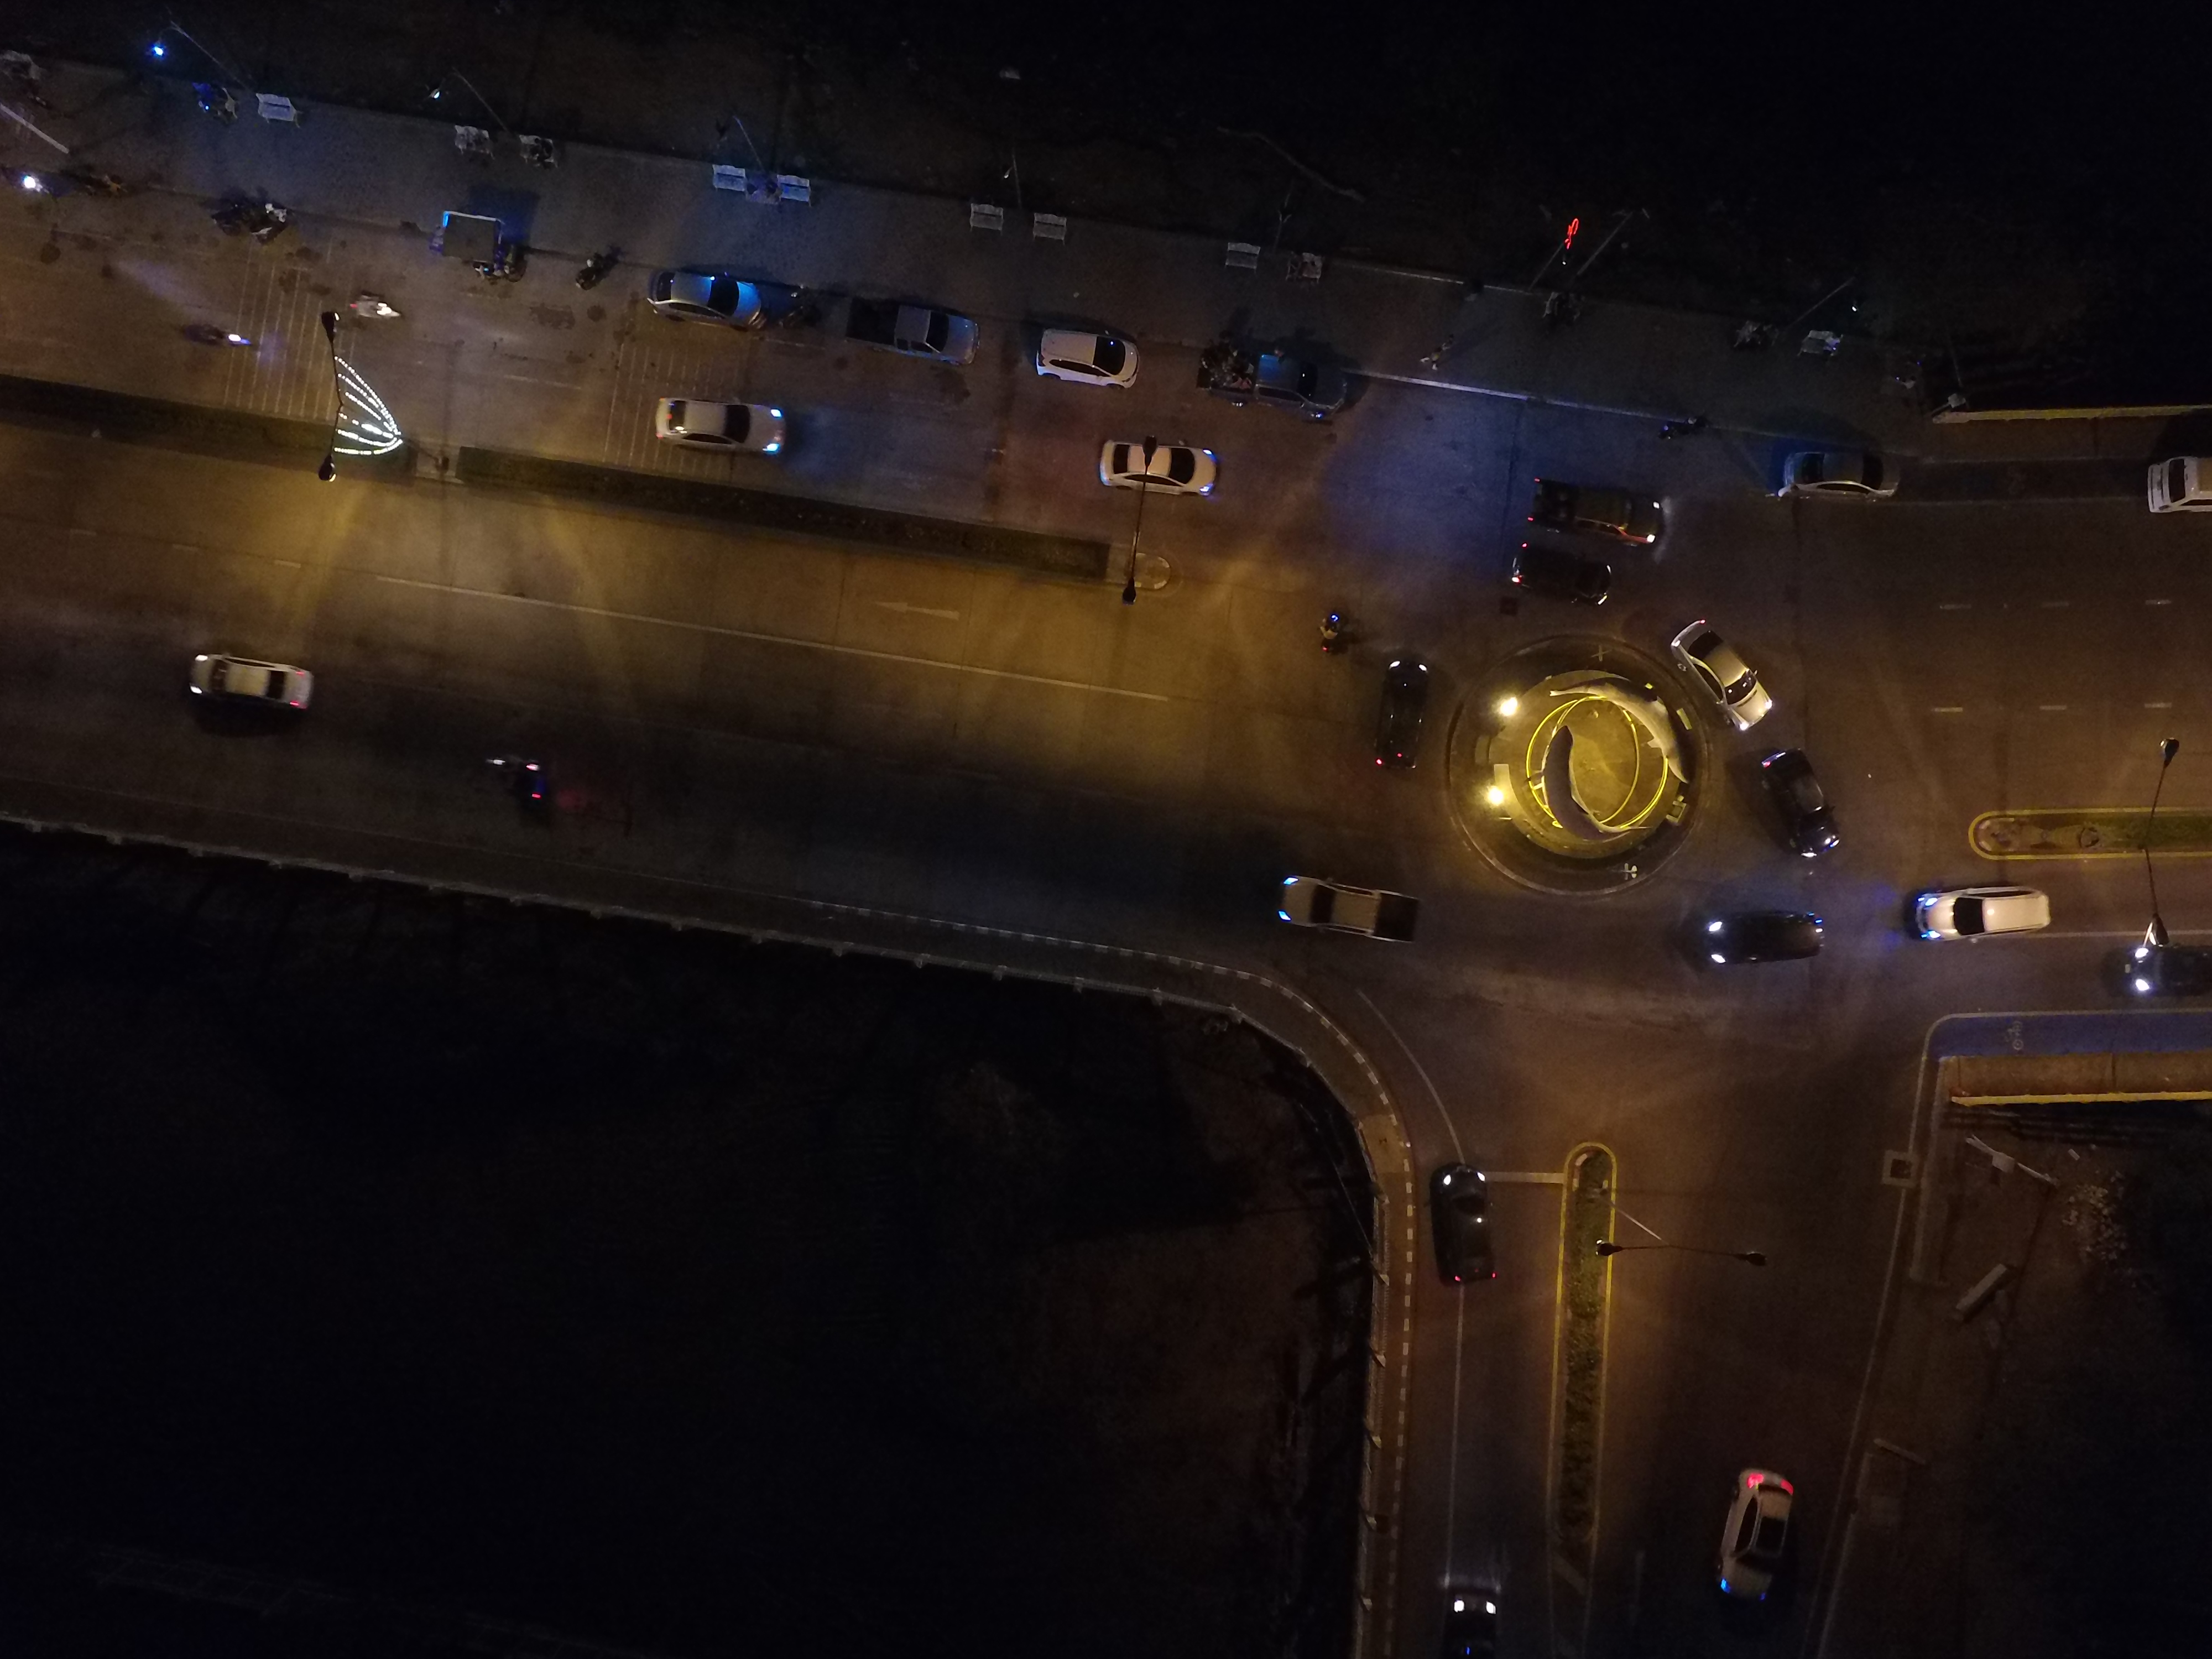car: (634, 362, 798, 465), (158, 638, 322, 741), (827, 284, 993, 385), (634, 244, 798, 345), (1705, 1460, 1815, 1603), (1670, 605, 1780, 746), (1414, 1148, 1524, 1290), (1268, 866, 1421, 955), (1681, 896, 1834, 985), (1008, 314, 1163, 401), (1075, 429, 1230, 516), (1526, 462, 1681, 549), (1477, 532, 1634, 617), (1205, 342, 1359, 429), (1904, 868, 2059, 953), (1750, 439, 1905, 525), (1757, 735, 1850, 878), (1362, 645, 1446, 779), (2137, 439, 2212, 532)
